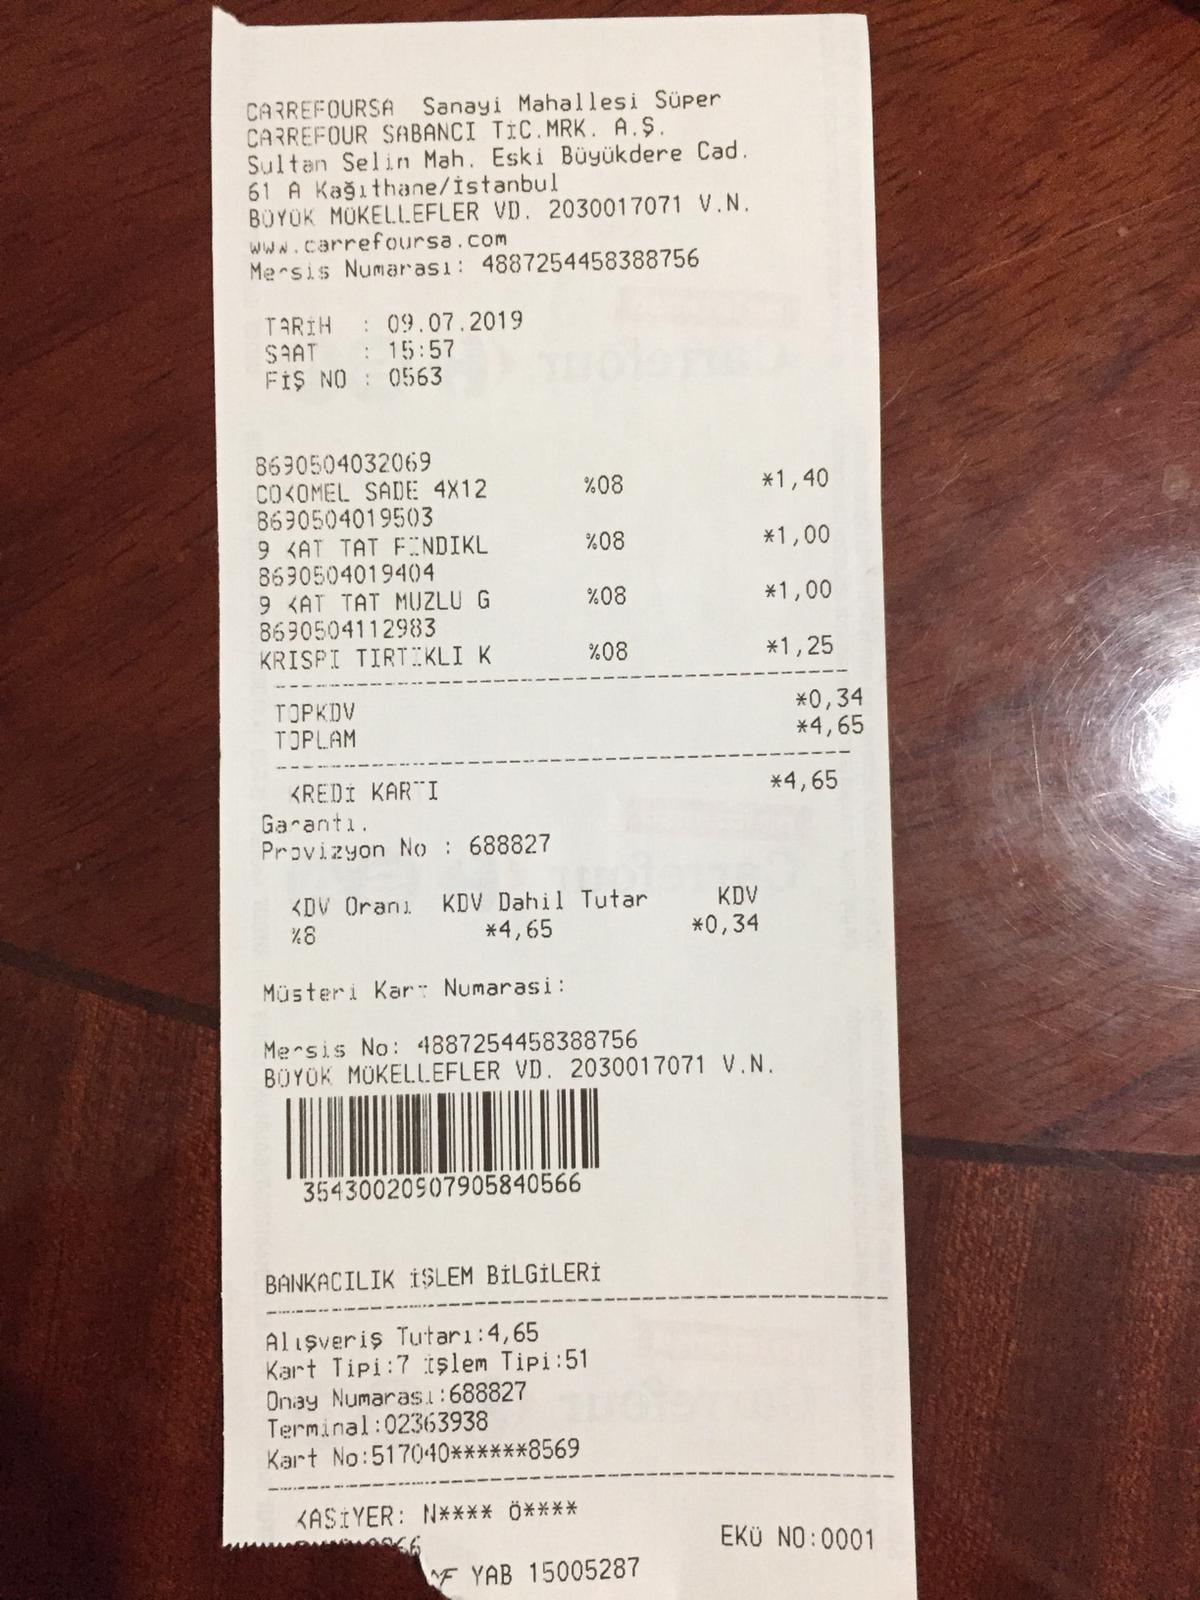total: (270, 711, 872, 757)
